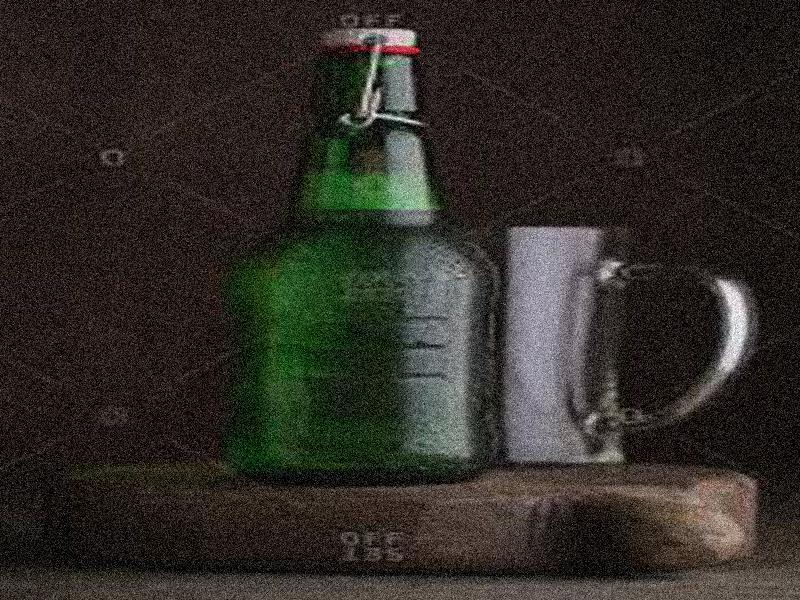Beer: (236, 28, 490, 484)
